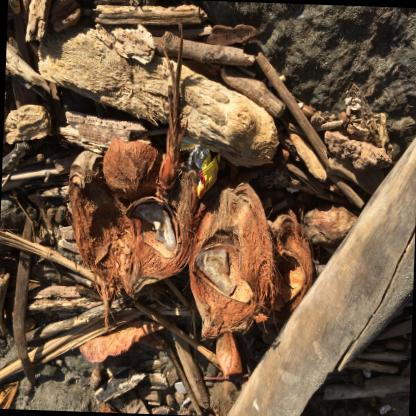Plastic: (179, 135, 219, 198)
